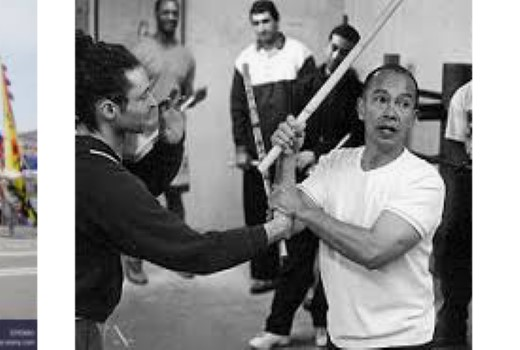baston_e: (301, 3, 387, 136), (238, 69, 287, 228)
baston_v: (254, 137, 288, 181), (274, 238, 294, 259), (236, 56, 259, 73)
